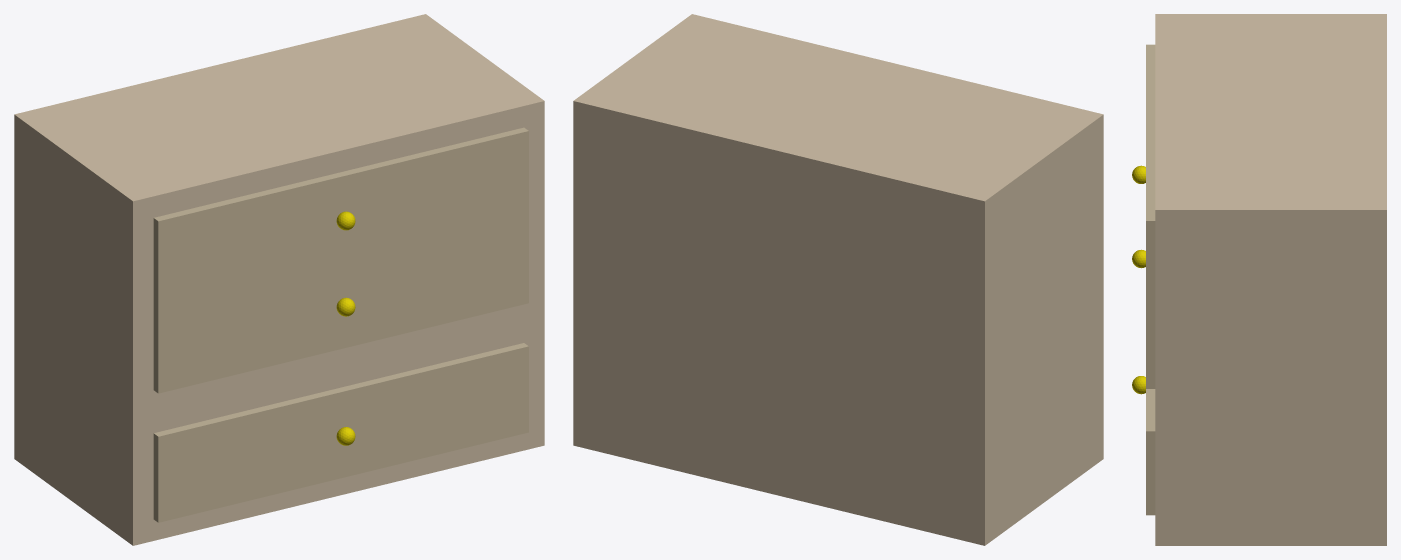
The model's file is Dresser.glb.
3 renders of one model, left to right at view 1: azimuth 30°, elevation 25°; view 2: azimuth 150°, elevation 25°; view 3: azimuth 270°, elevation 25°, orthographic. The views are drawn at different scales.
Parts seen in each view (by area): view 1: world; view 2: world; view 3: world.
Boxes of the visible parts, <box> form: world: <box>14,14,544,545</box>; world: <box>573,14,1103,545</box>; world: <box>1132,14,1386,545</box>.
Bounding box in the file's own units: 1 × 0.8 × 0.55.
